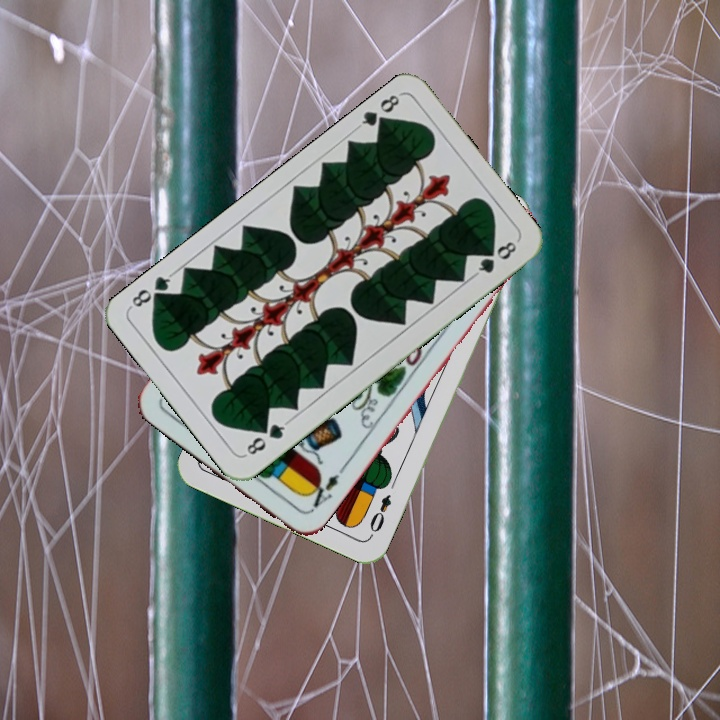EA: (302, 470, 343, 514)
EO: (365, 490, 394, 535)
G8: (353, 89, 403, 133), (241, 417, 291, 459)
